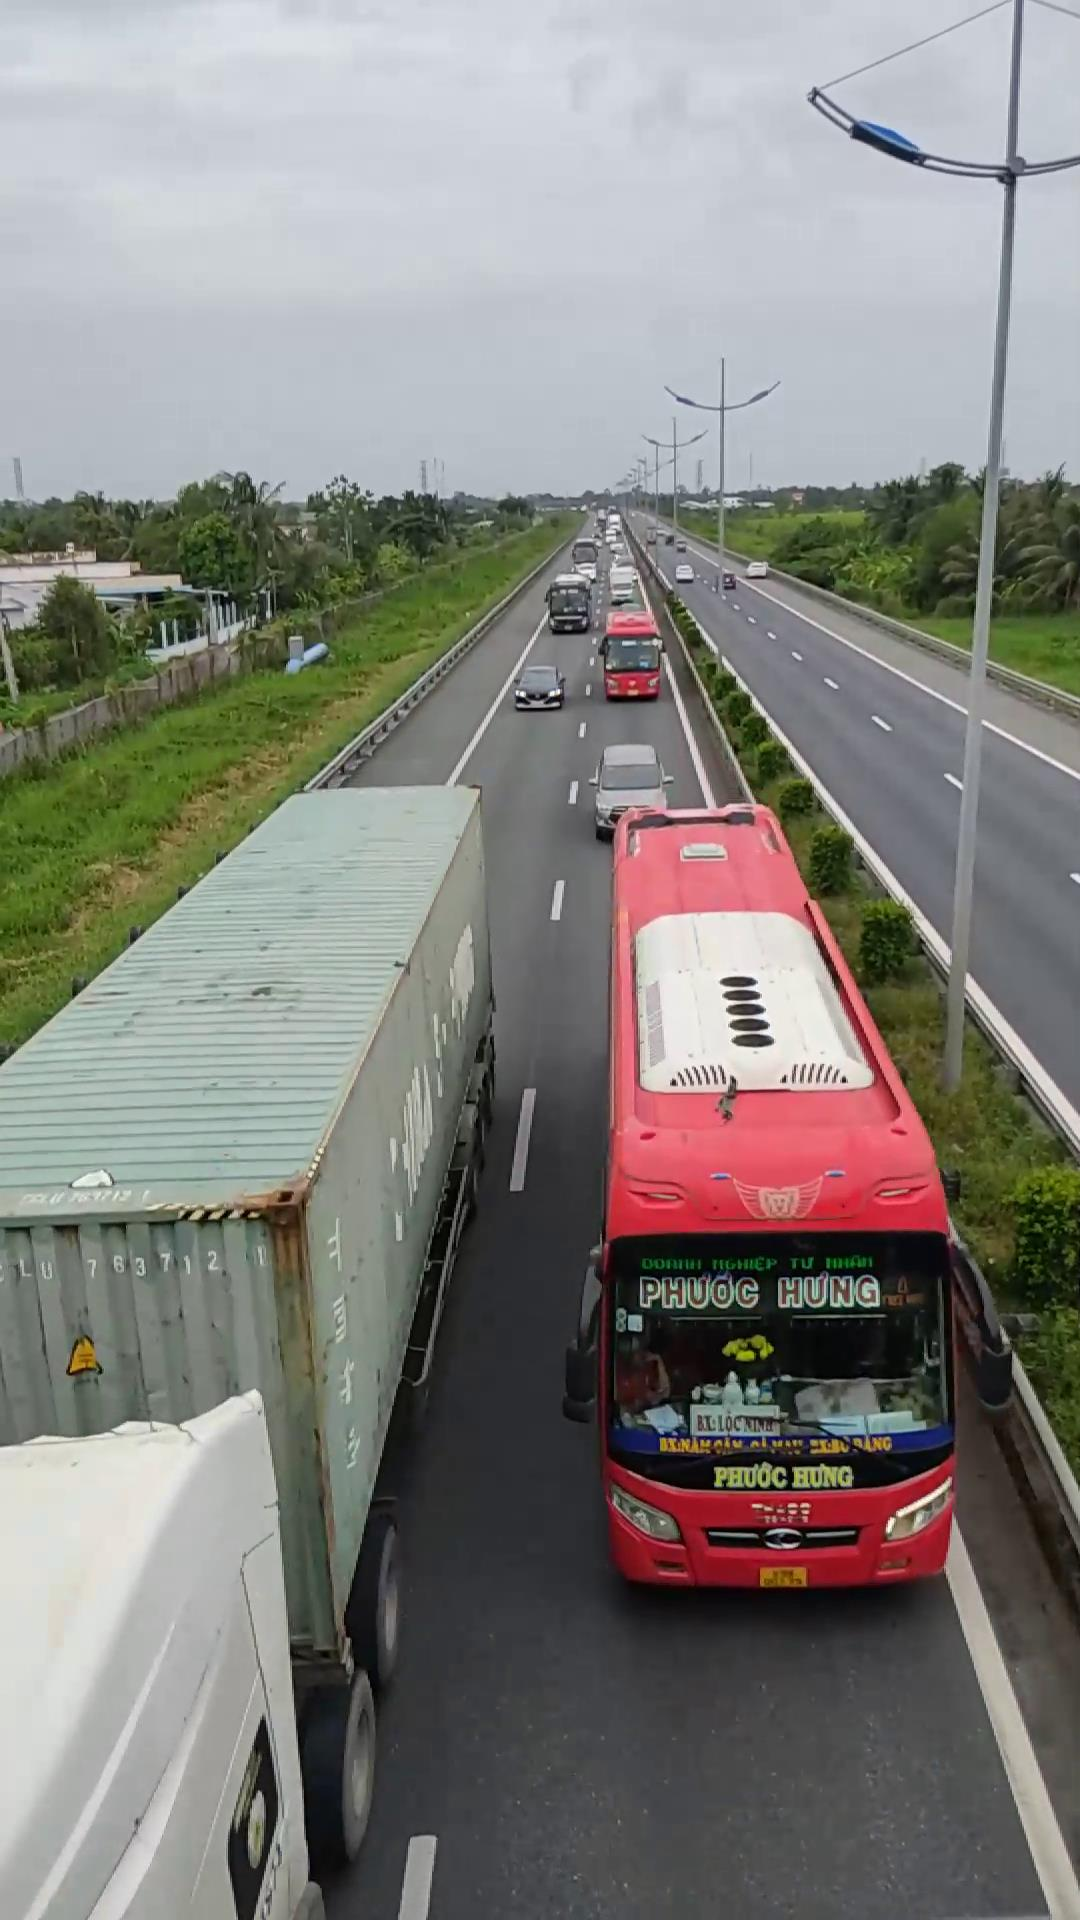bus: (585, 796, 961, 1592)
container: (0, 775, 500, 1920)
